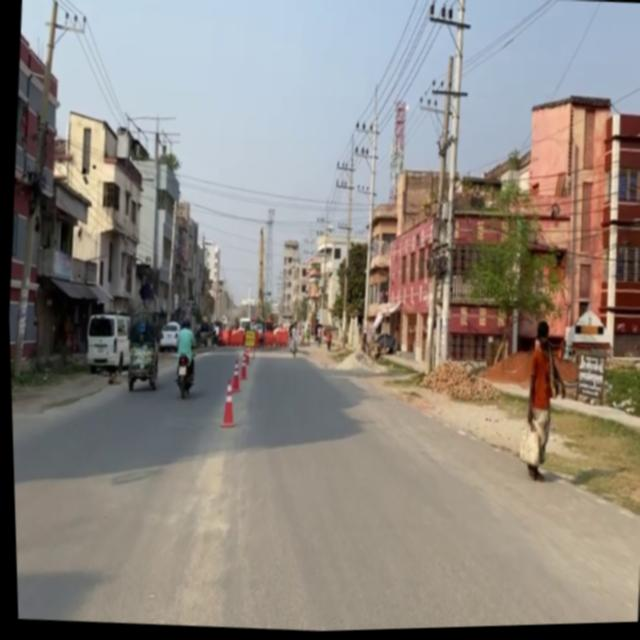Broken-road: (80, 309, 131, 377)
Construction-barrier: (468, 373, 640, 443)
Fallen-tree: (121, 337, 158, 393), (169, 348, 194, 400), (284, 334, 296, 360)
Garbage: (556, 309, 612, 366)
Garbage-bin: (515, 321, 570, 485), (169, 318, 197, 386)
Pothole: (362, 343, 640, 527)
